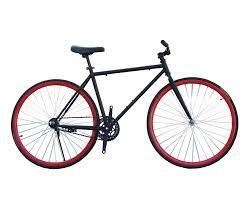bicycle: (8, 38, 241, 173)
